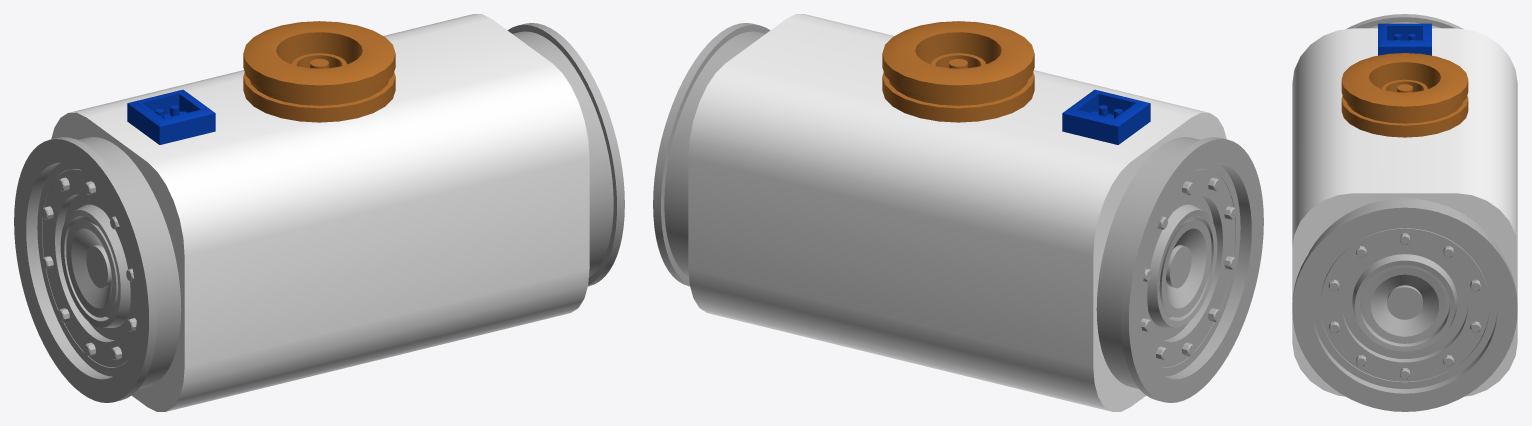
File: SmallTurboPump.gltf
3 views of the same model, side by side, from view 1: azimuth 30°, elevation 25°; view 2: azimuth 150°, elevation 25°; view 3: azimuth 270°, elevation 25° (orthographic). The views are drawn at different scales.
Visible parts, largest first — view 1: base; view 2: base; view 3: base.
Boxes of the visible parts, x1,y1,x2,y2 form: base: (14, 14, 624, 411); base: (653, 14, 1263, 411); base: (1292, 14, 1517, 411).
Bounding box in the file's own units: 0.5078 × 0.2917 × 0.25.
